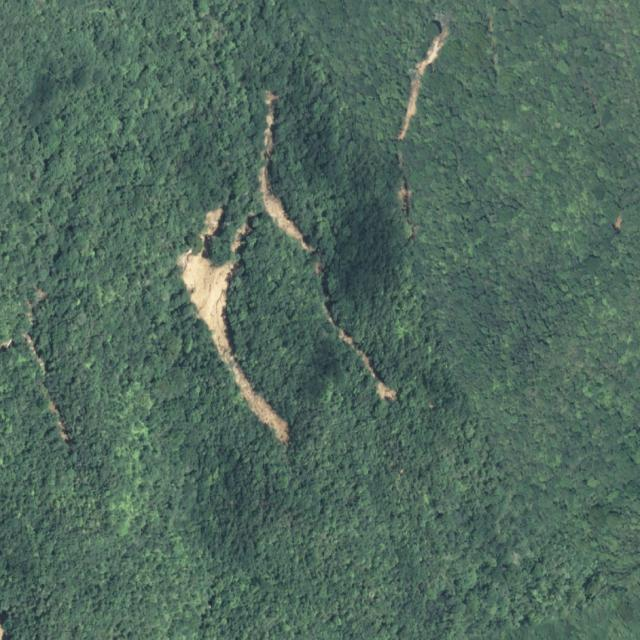landslide: (179, 208, 289, 445), (260, 90, 316, 253), (324, 299, 397, 402), (398, 13, 450, 139)
